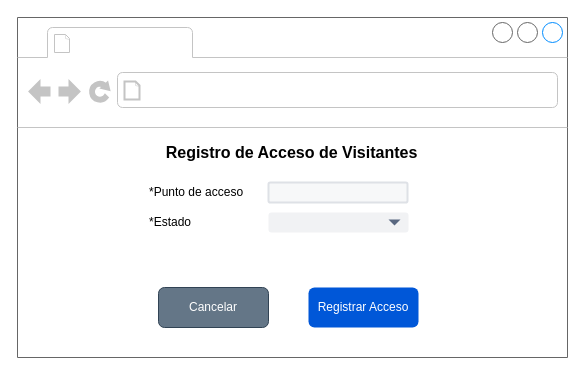
This 585x375 diagram has some shape labels left out. The centre of each missing label's shape, as x and y in pixels:
"https://www.draw.io" goes at (272,90).
"Page 1" goes at (132,42).
